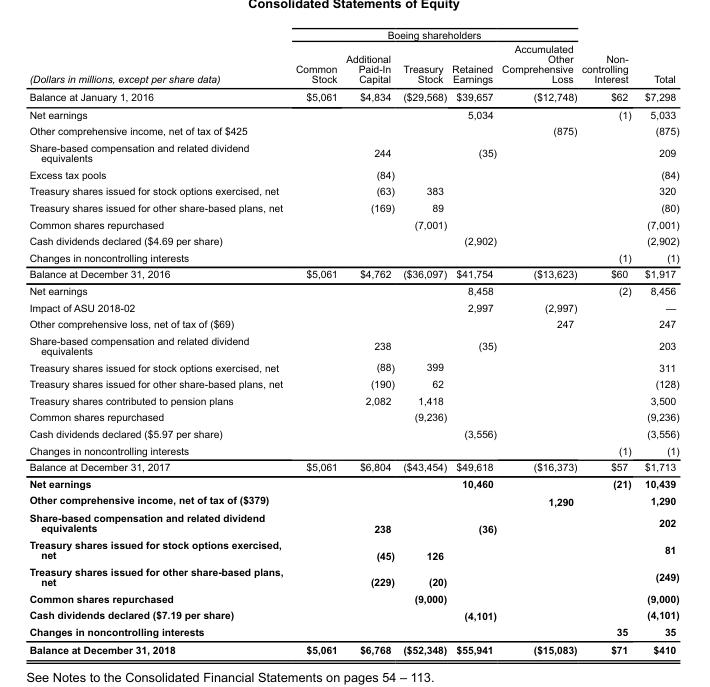table: (28, 28, 678, 655)
table column: (28, 28, 288, 655), (498, 28, 578, 655), (578, 28, 637, 655), (340, 28, 398, 655), (288, 28, 340, 655), (398, 28, 448, 655), (448, 28, 498, 655), (637, 28, 678, 655)
table column header: (28, 28, 678, 87)
table row: (28, 41, 678, 87), (28, 331, 678, 358), (28, 509, 678, 536), (28, 536, 678, 563), (28, 563, 678, 590), (28, 139, 678, 165), (28, 87, 678, 105), (28, 491, 678, 509), (28, 105, 678, 122), (28, 122, 678, 139), (28, 165, 678, 182), (28, 182, 678, 199), (28, 215, 678, 232), (28, 248, 678, 265), (28, 265, 678, 282), (28, 298, 678, 315), (28, 358, 678, 375), (28, 391, 678, 408), (28, 408, 678, 425), (28, 441, 678, 458), (28, 474, 678, 491), (28, 606, 678, 623), (28, 623, 678, 640), (28, 199, 678, 215), (28, 232, 678, 248), (28, 282, 678, 298), (28, 315, 678, 331), (28, 375, 678, 391), (28, 425, 678, 441), (28, 458, 678, 474), (28, 590, 678, 606), (28, 640, 678, 655), (28, 28, 678, 41)
table spanning cell: (28, 28, 288, 87), (288, 28, 578, 41), (578, 28, 637, 87), (637, 28, 678, 87)
